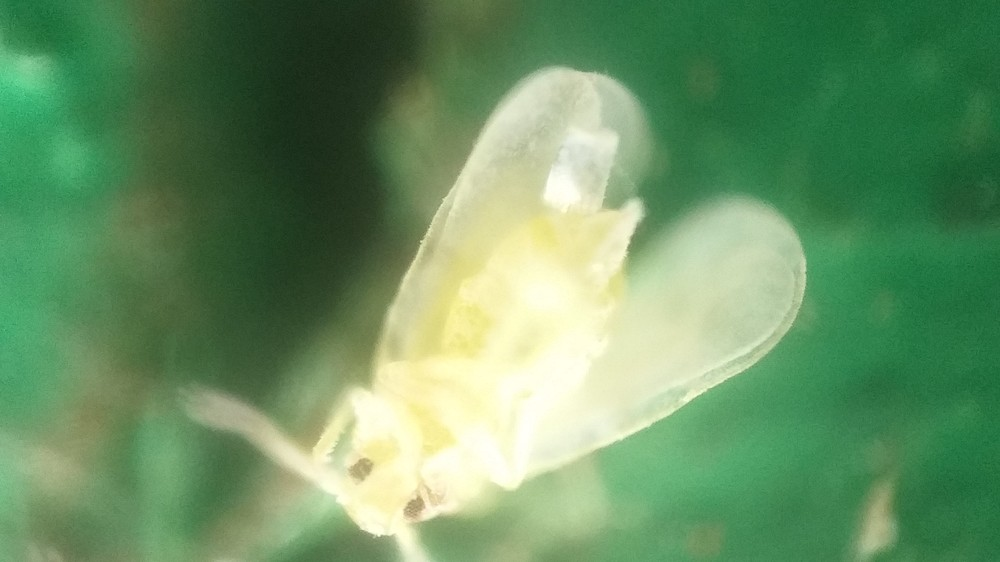Mosca Blanca: (173, 58, 817, 562)
